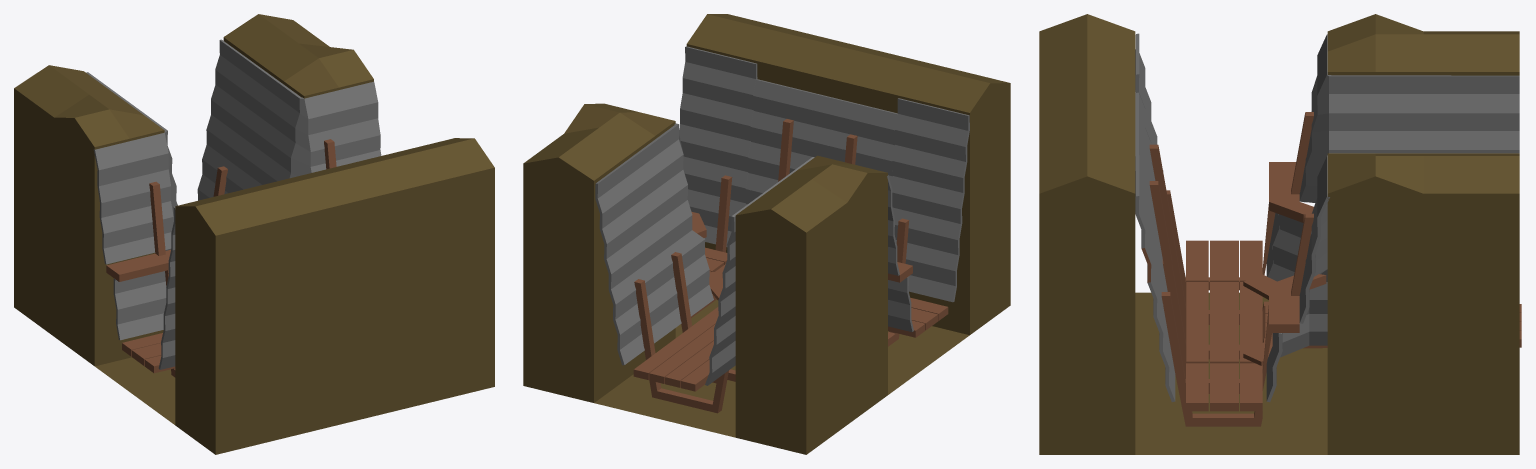
Rendered from Trench T-Section Alt.fbx.
The picture shows the model from 3 angles, left to right: view 1: azimuth 30°, elevation 25°; view 2: azimuth 150°, elevation 25°; view 3: azimuth 270°, elevation 25°; orthographic projection. The views are drawn at different scales.
Parts seen in each view (by area): view 1: Trench Dirt T-Section Alt, Trench T-Section Alt; view 2: Trench Dirt T-Section Alt, Trench T-Section Alt; view 3: Trench Dirt T-Section Alt, Trench T-Section Alt.
Part boxes in pixels (box(x1,y1,x2,y2)): Trench Dirt T-Section Alt: box(14, 14, 494, 454); Trench T-Section Alt: box(86, 39, 381, 377); Trench Dirt T-Section Alt: box(523, 14, 1010, 454); Trench T-Section Alt: box(595, 46, 969, 413); Trench Dirt T-Section Alt: box(1039, 14, 1519, 454); Trench T-Section Alt: box(1135, 33, 1521, 426).
Bounding box in the file's own units: 2000 × 1600 × 2510.
